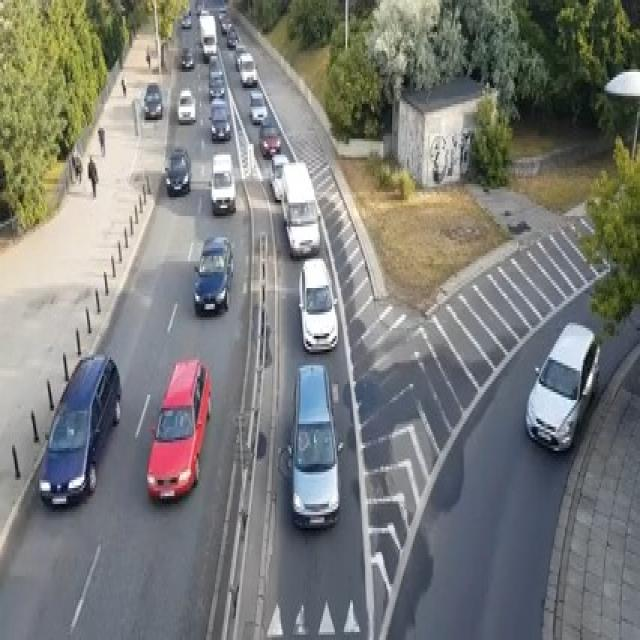car: (38, 352, 122, 507), (276, 362, 342, 530), (524, 320, 600, 453), (146, 358, 210, 502), (297, 256, 338, 352), (281, 160, 320, 256), (192, 234, 233, 314), (209, 152, 236, 213), (164, 146, 191, 194), (209, 96, 230, 141), (258, 118, 281, 158), (269, 152, 288, 200), (198, 11, 216, 58), (143, 83, 162, 117), (248, 90, 267, 122), (178, 88, 195, 123), (239, 54, 257, 86), (207, 72, 224, 99), (180, 46, 194, 70), (225, 27, 239, 48), (208, 56, 222, 77), (220, 13, 232, 35), (180, 8, 191, 27)
